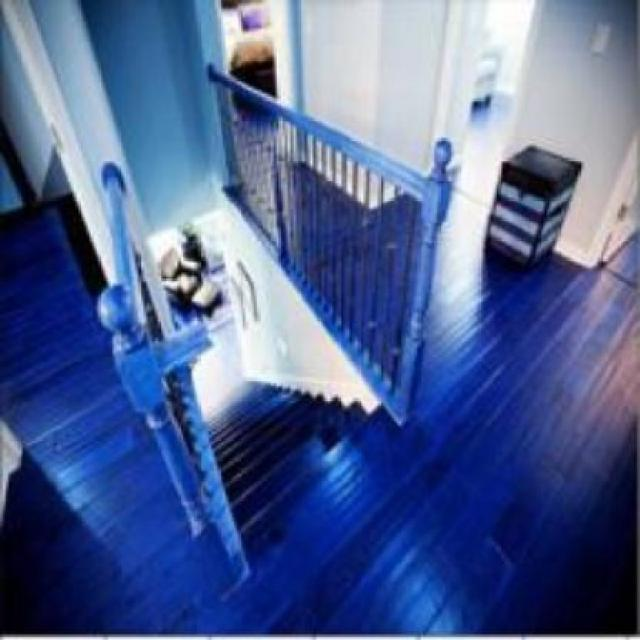stair: (178, 369, 398, 529)
